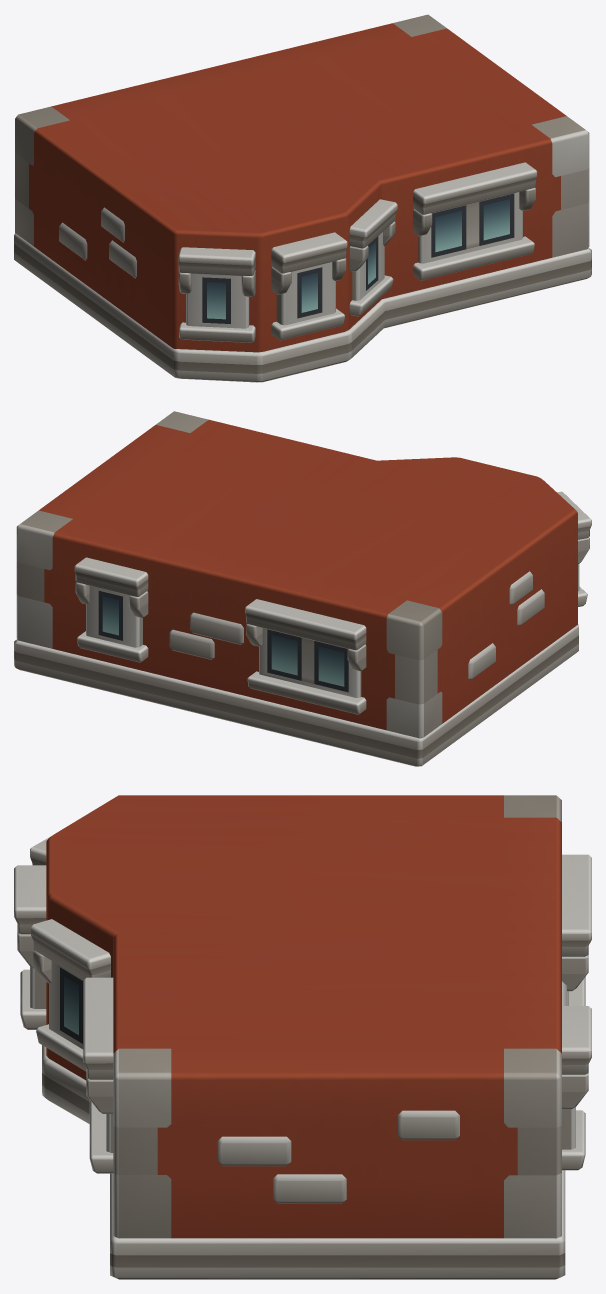
Rendered from apartment_type2_element_red.fbx.
3 views of the same model, one above another, from view 1: azimuth 30°, elevation 25°; view 2: azimuth 150°, elevation 25°; view 3: azimuth 270°, elevation 25° (orthographic). The views are drawn at different scales.
Parts seen in each view (by area): view 1: apartment_type2_element_red; view 2: apartment_type2_element_red; view 3: apartment_type2_element_red.
Part boxes in pixels (<box>): apartment_type2_element_red: <box>14,14,591,382</box>; apartment_type2_element_red: <box>14,411,591,766</box>; apartment_type2_element_red: <box>14,795,591,1279</box>.
Size of the model in its own units: 1225 by 409 by 1043.
